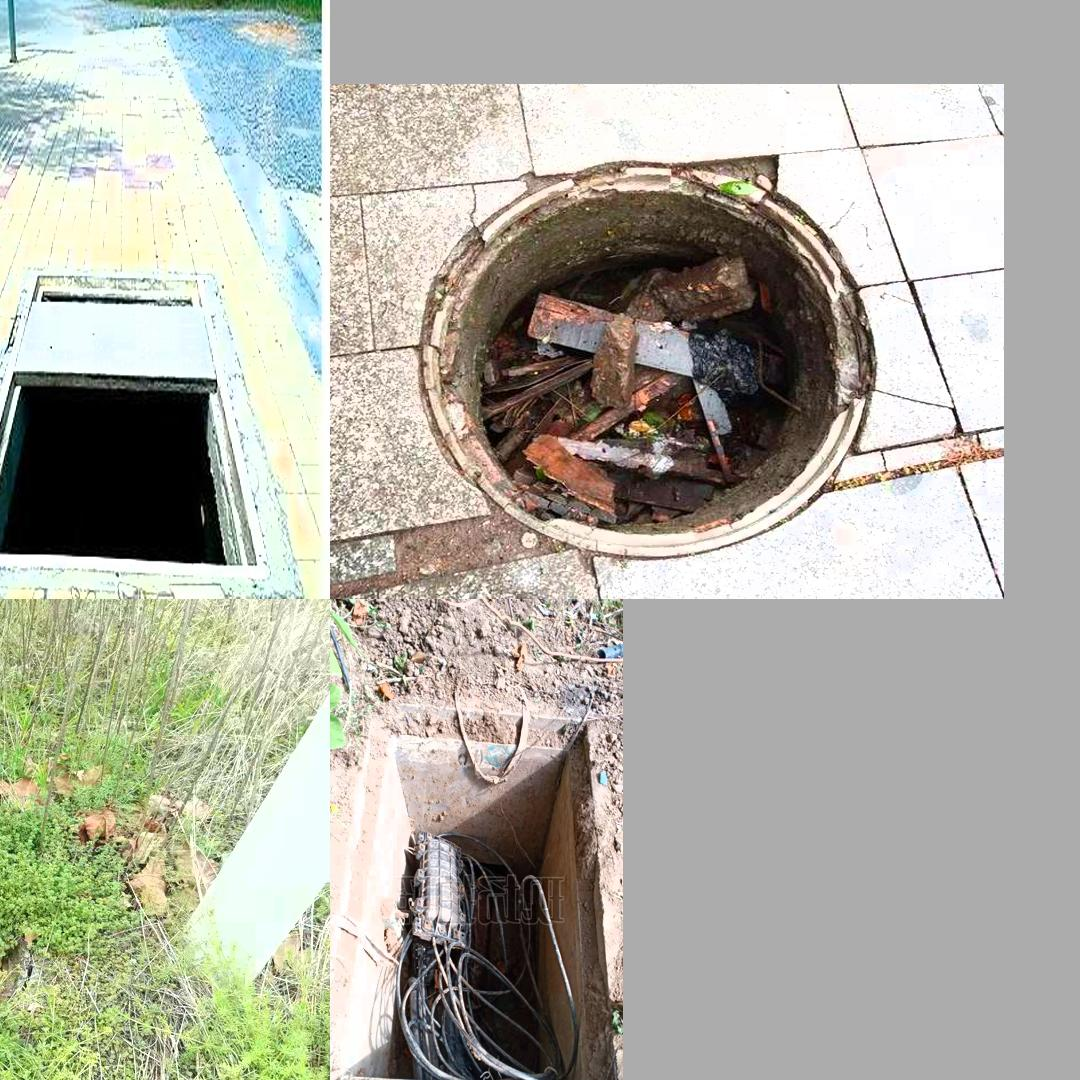lose: (413, 168, 880, 558), (330, 717, 615, 1080), (0, 257, 277, 596), (0, 860, 38, 1062)
